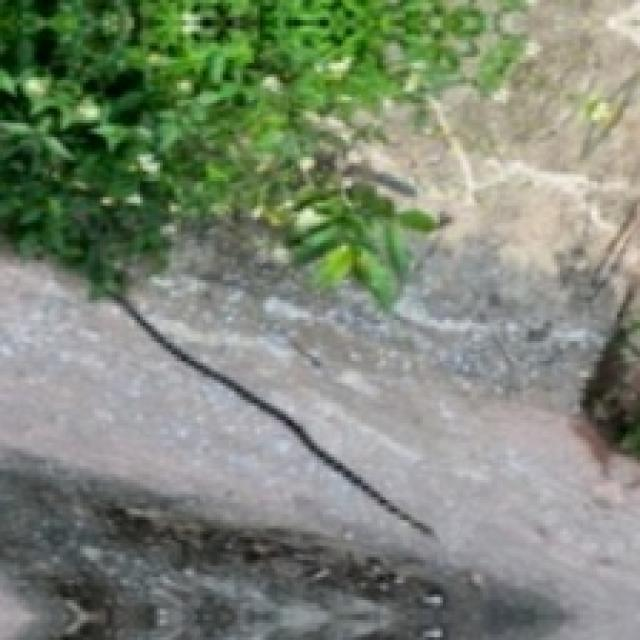king cobra: (109, 294, 431, 534)
